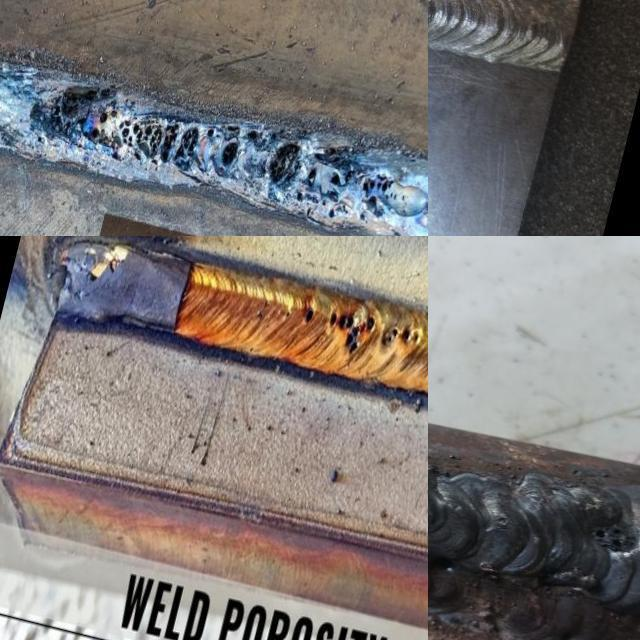defect: (45, 83, 199, 175), (325, 306, 378, 362), (357, 171, 411, 225), (586, 516, 640, 557), (265, 139, 304, 188), (218, 123, 241, 165), (381, 325, 421, 348), (309, 138, 343, 164), (329, 166, 357, 188), (494, 514, 514, 533), (255, 297, 270, 319), (301, 305, 314, 328), (306, 165, 318, 189), (246, 127, 256, 142), (204, 126, 217, 137), (283, 305, 293, 319), (304, 205, 312, 220), (327, 206, 335, 219), (340, 203, 348, 216), (320, 196, 327, 210), (295, 191, 303, 203), (270, 130, 275, 142), (36, 134, 44, 141)
